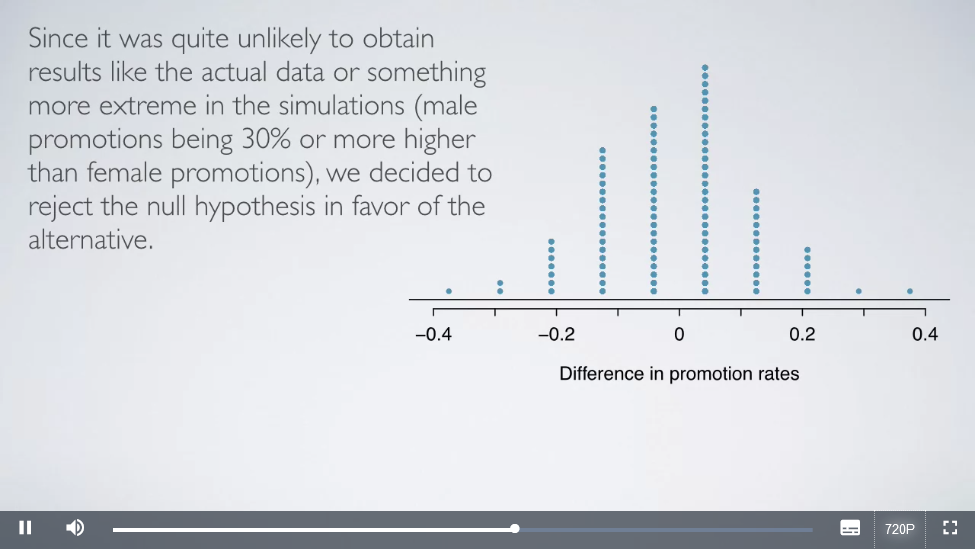figure: (404, 61, 957, 386)
text: (28, 23, 498, 253), (551, 358, 802, 387)
